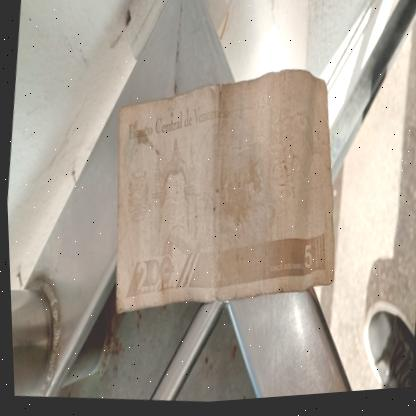five-back-vef: (94, 52, 353, 338)
